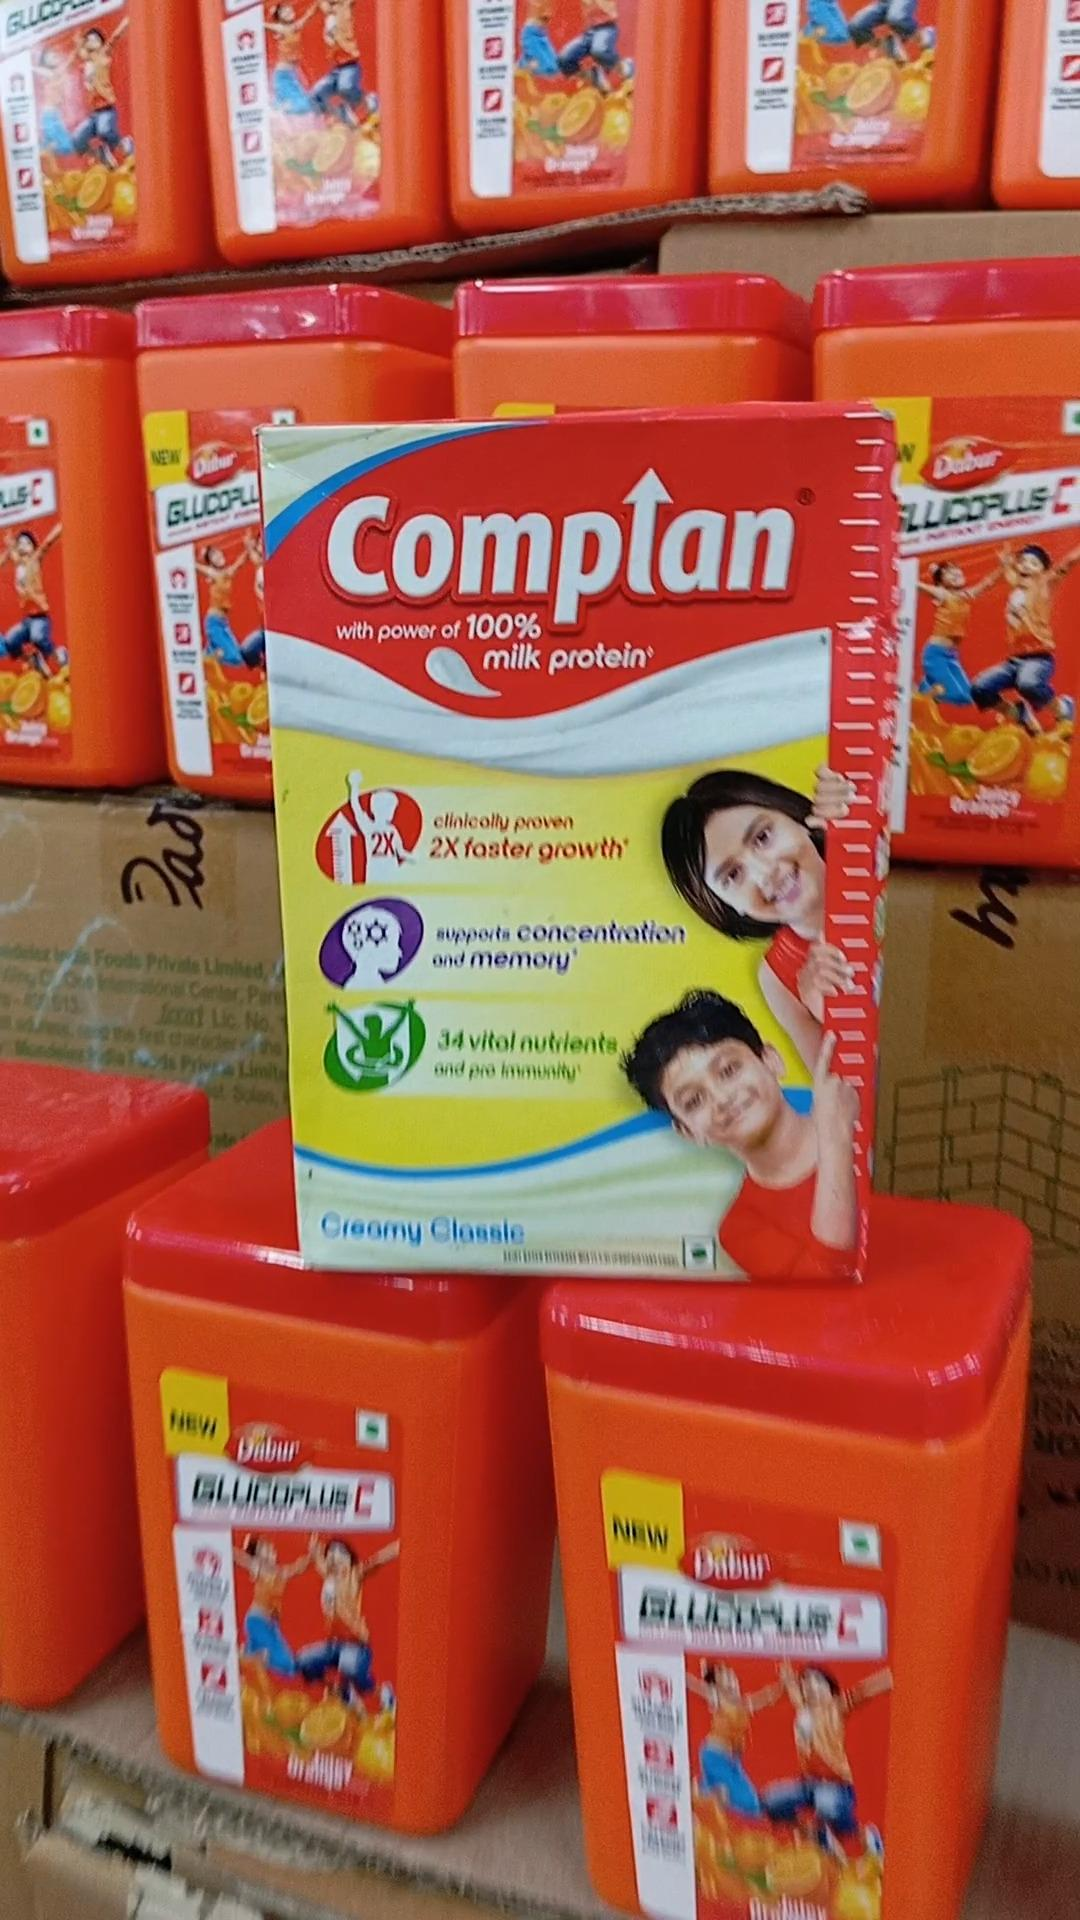COMPLAN_CREAMY_CLASSIC_500_G_PACK: (273, 415, 866, 1280)
